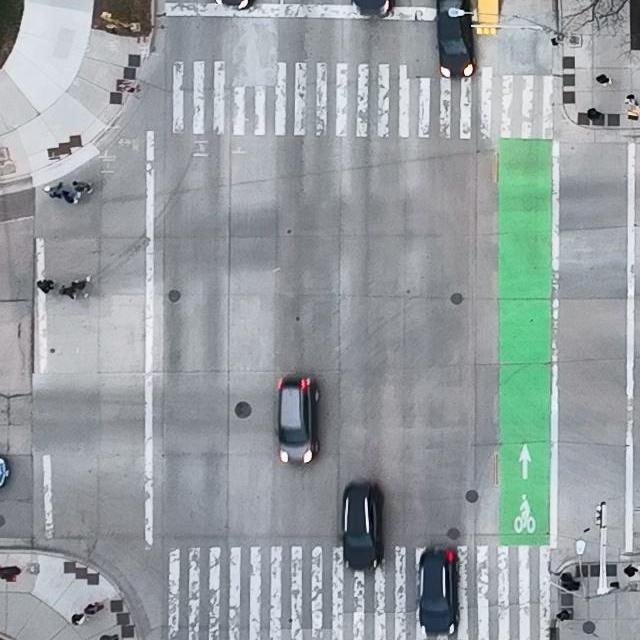car: (339, 481, 385, 572), (276, 374, 319, 467), (416, 545, 459, 635), (433, 0, 475, 78), (350, 0, 394, 18)
